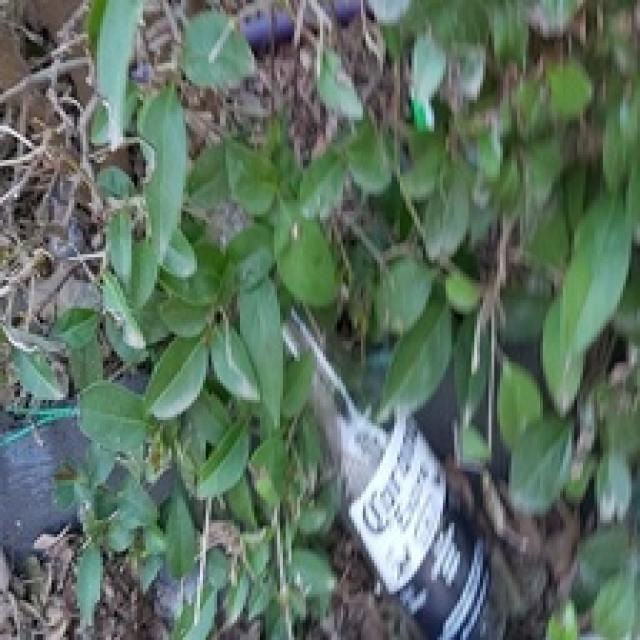Glass: (285, 304, 508, 640)
